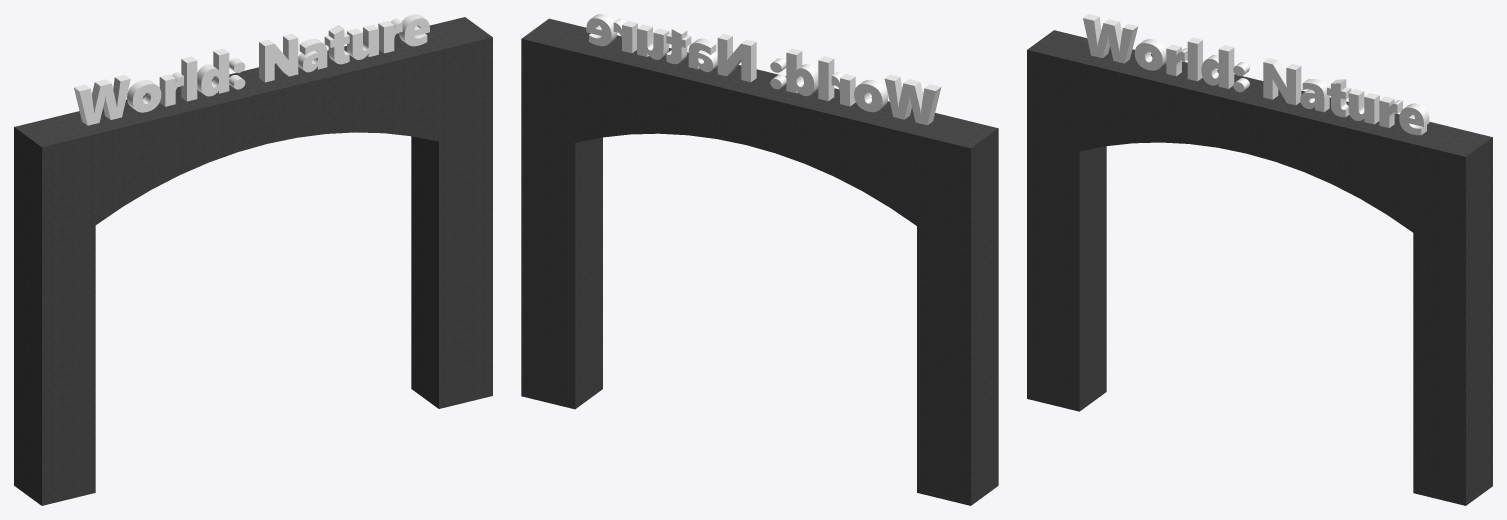
The model's file is Arch2.fbx.
3 renders of one model, left to right at view 1: azimuth 30°, elevation 25°; view 2: azimuth 150°, elevation 25°; view 3: azimuth 330°, elevation 25°, orthographic. The views are drawn at different scales.
Parts seen in each view (by area): view 1: Model, World__Nature1; view 2: Model, World__Nature1; view 3: Model, World__Nature1.
Part boxes in pixels (bbox=[...]): Model: bbox=[14, 17, 492, 505]; World__Nature1: bbox=[74, 14, 429, 125]; Model: bbox=[521, 18, 998, 505]; World__Nature1: bbox=[586, 14, 941, 125]; Model: bbox=[1027, 30, 1492, 505]; World__Nature1: bbox=[1083, 14, 1429, 135].
Size of the model in its own units: 13.71 by 11.56 by 1.46.
